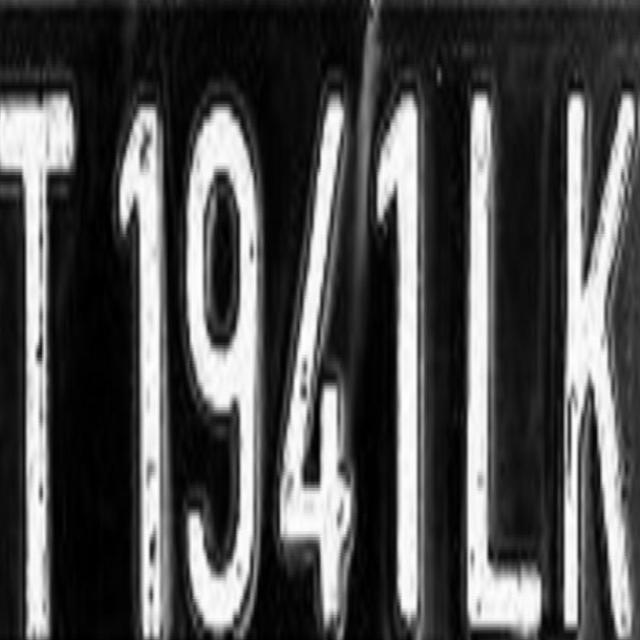1: (110, 92, 186, 640), (374, 87, 434, 640)
4: (270, 81, 370, 640)
9: (178, 79, 261, 640)
K: (554, 87, 638, 640)
L: (446, 74, 549, 640)
T: (0, 76, 87, 640)
